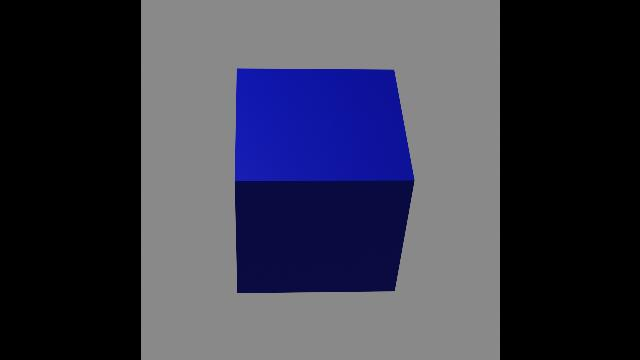Cube: (231, 63, 417, 299)
